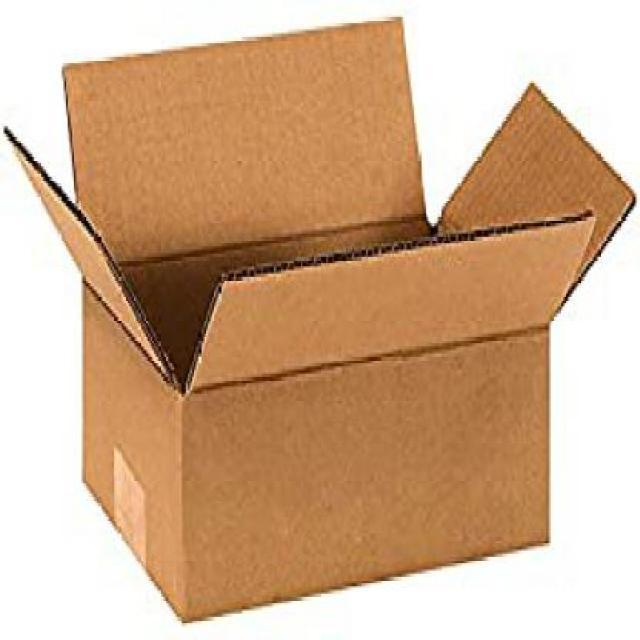box: (21, 22, 623, 624)
